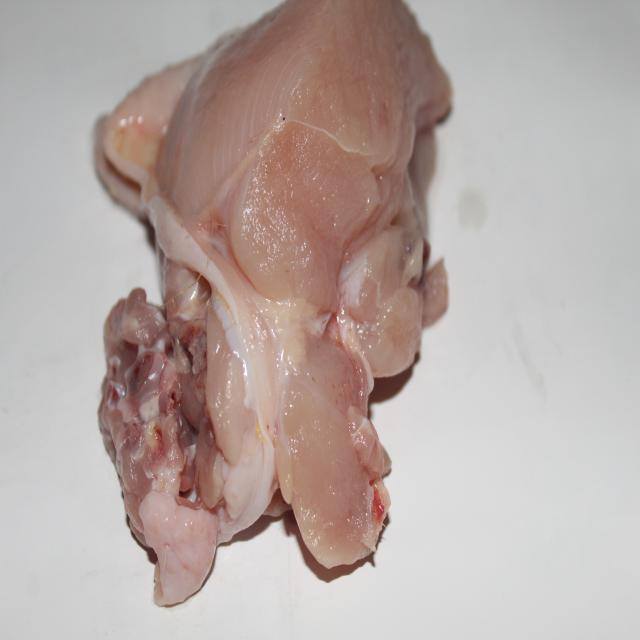chicken: (95, 11, 447, 568)
